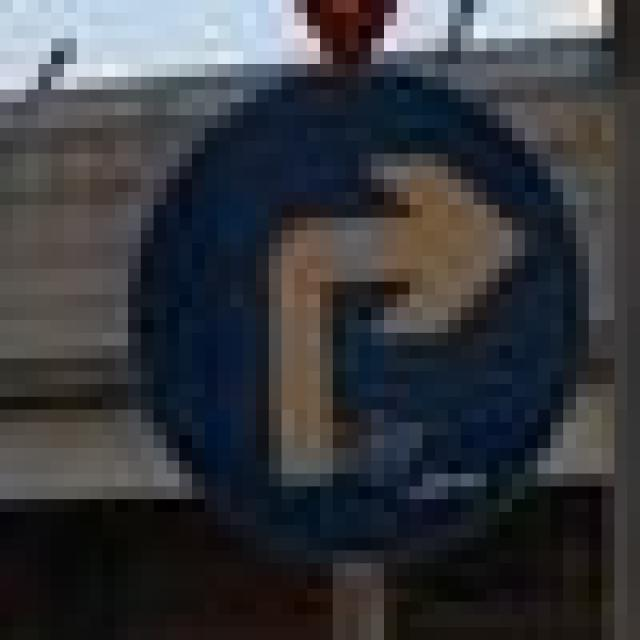railway_crossing: (115, 51, 576, 538)
